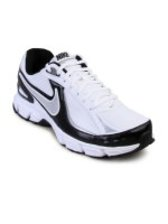shoes: (9, 45, 158, 158)
